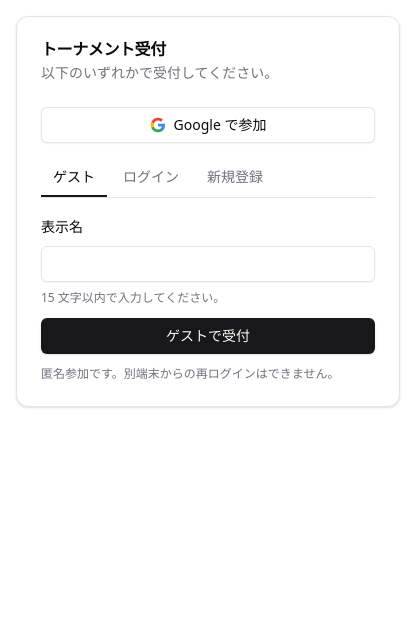
JoinClient — 新規登録タブ（08 Phase 3） › 想定外のエラーは通常のエラー表示のみで、アカウント作成済みの案内は出さない
This screenshot has width=417, height=637.
Click the tab "新規登録" at (235,178), box [195,159,275,197]
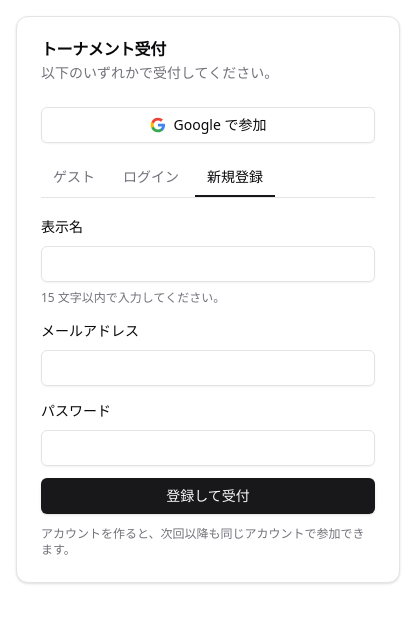
Type "Alice" into the field labelled "表示名" at (208,264), box [41,246,375,282]
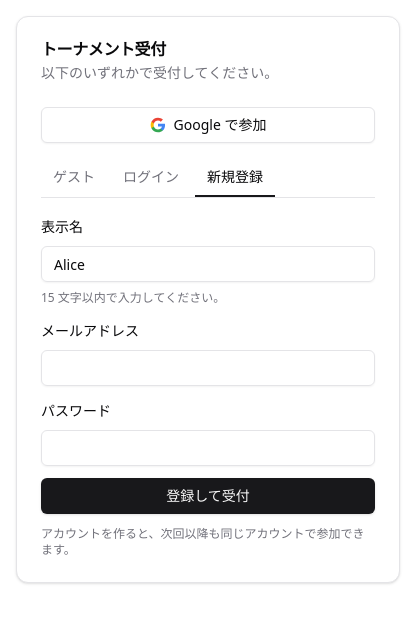
Type "alice@example.com" into the field labelled "メールアドレス" at (208,368), box [41,350,375,386]
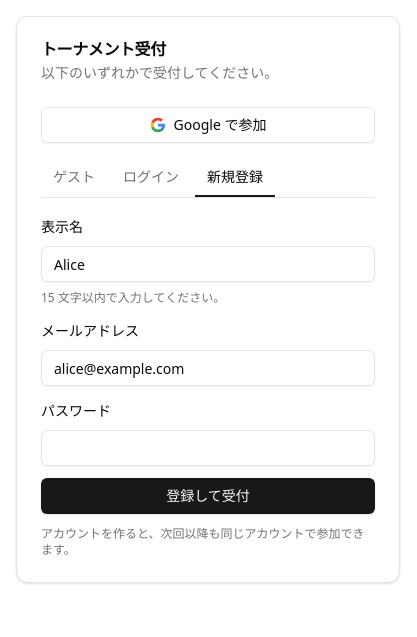
Type "123" into the password field labelled "パスワード" at (208,448), box [41,430,375,466]
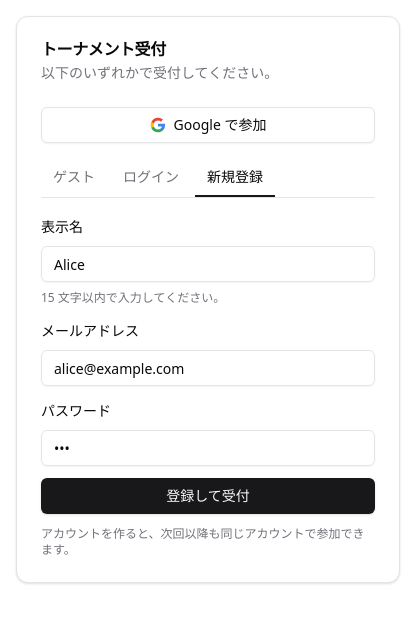
Click the button "登録して受付" at (208,496), box [41,478,375,514]
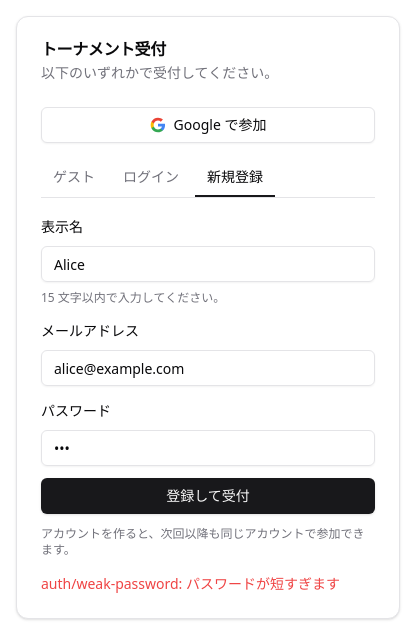
expect the message shows "auth/weak-password": met, box [41,574,340,593]
